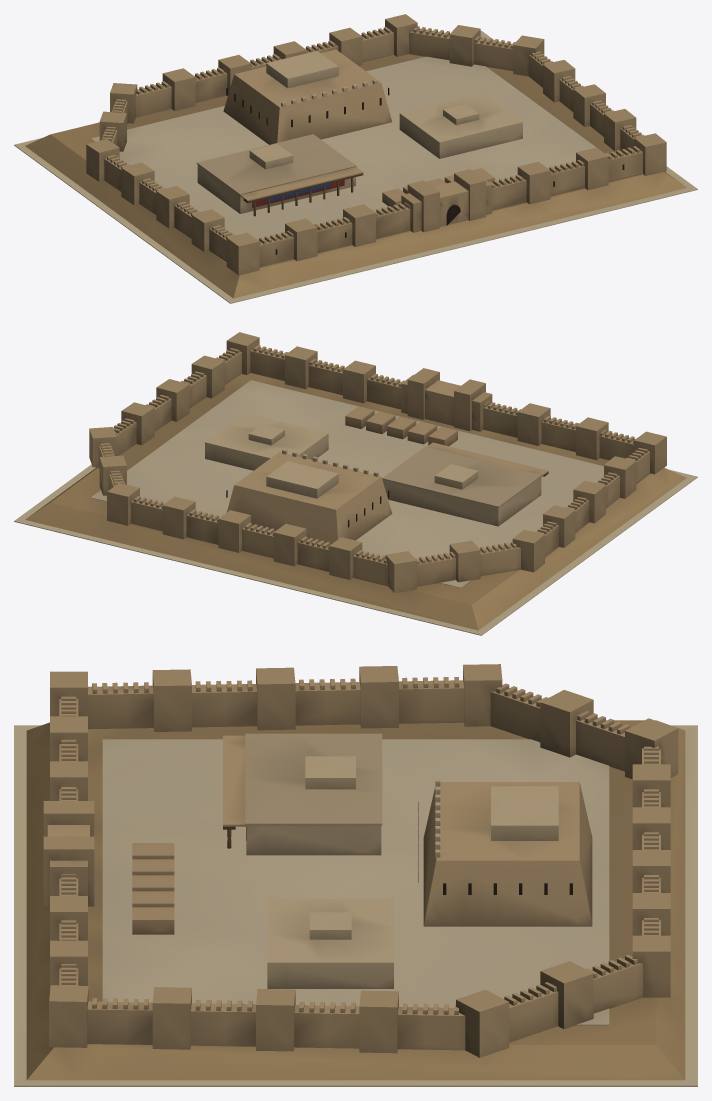
The model's file is afrasiyab-citadel.glb.
3 views of the same model, one above another, from view 1: azimuth 30°, elevation 25°; view 2: azimuth 150°, elevation 25°; view 3: azimuth 270°, elevation 25° (orthographic). The views are drawn at different scales.
Parts seen in each view (by area): view 1: p1_walls, p2_palace, p0_platform; view 2: p1_walls, p2_palace, p0_platform; view 3: p1_walls, p0_platform, p2_palace.
Part boxes in pixels (x1,y1,x2,y2): p1_walls: [86, 14, 666, 275]; p2_palace: [196, 49, 522, 232]; p0_platform: [14, 30, 697, 303]; p1_walls: [89, 332, 666, 593]; p2_palace: [205, 368, 548, 544]; p0_platform: [14, 373, 697, 635]; p1_walls: [49, 664, 678, 1057]; p0_platform: [14, 720, 697, 1086]; p2_palace: [43, 733, 592, 988].
Bounding box in the file's own units: 202 × 26.3 × 162.
